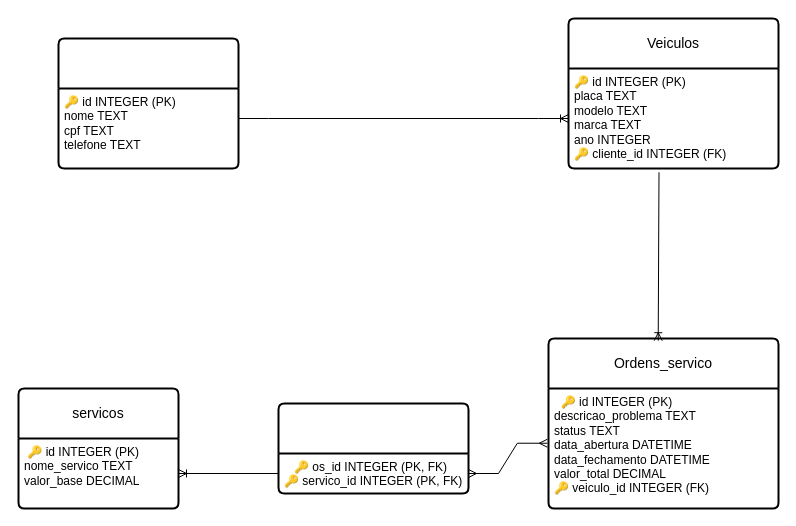
The diagram is 796 pixels wide and 526 high, and some of its shapes have lost their labels. Here are the shapes that lost their labels. From the top down, the box of each, then its label:
(57, 37, 239, 169): Pessoa
(277, 402, 469, 494): itens_servico
